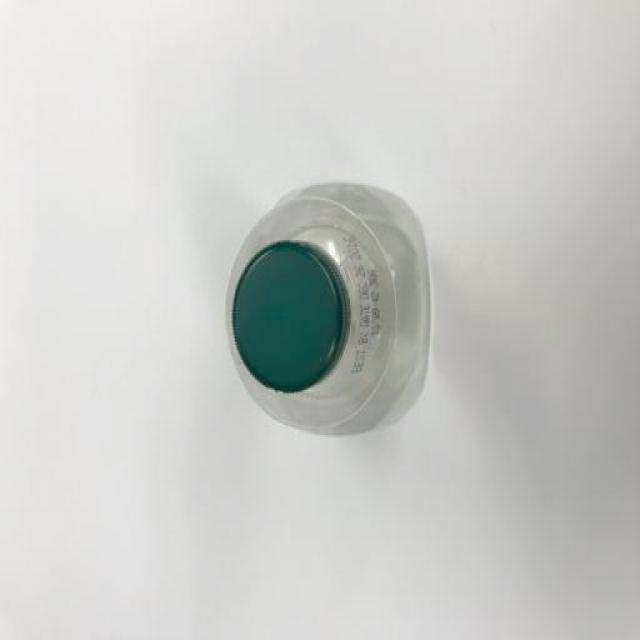bottle: (224, 182, 433, 437)
